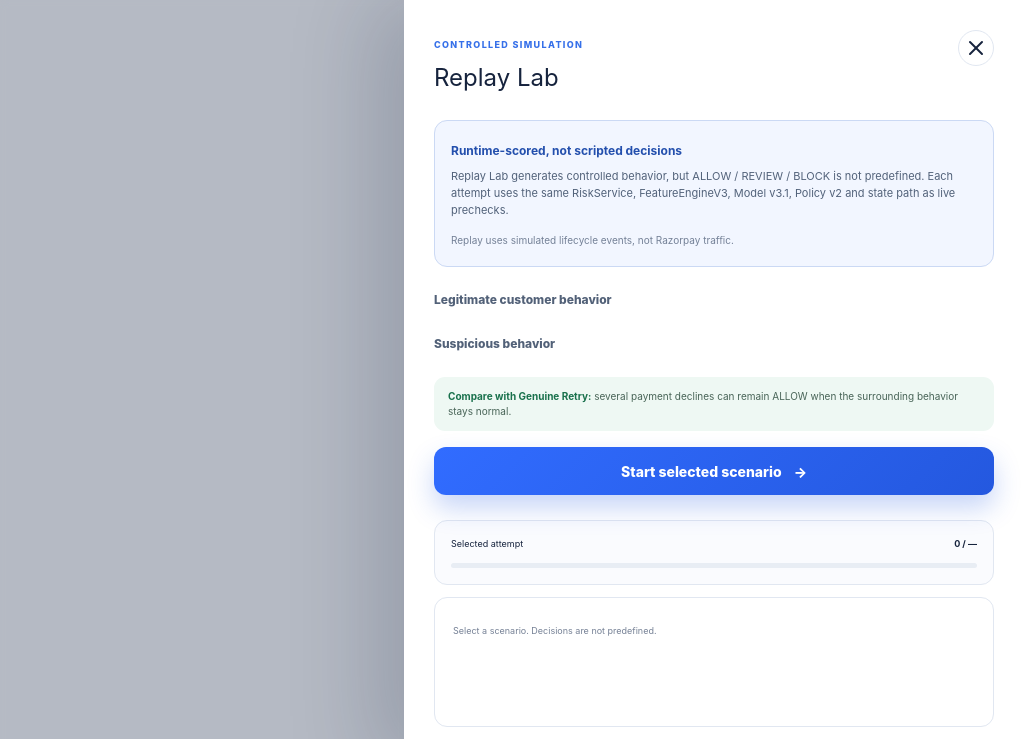
Test: ReplayDrawer › separates ALLOW from a later simulated outcome and renders BLOCK suppression
Click the button "Start selected scenario →". click: (714, 471)
box: [434,447,994,495]
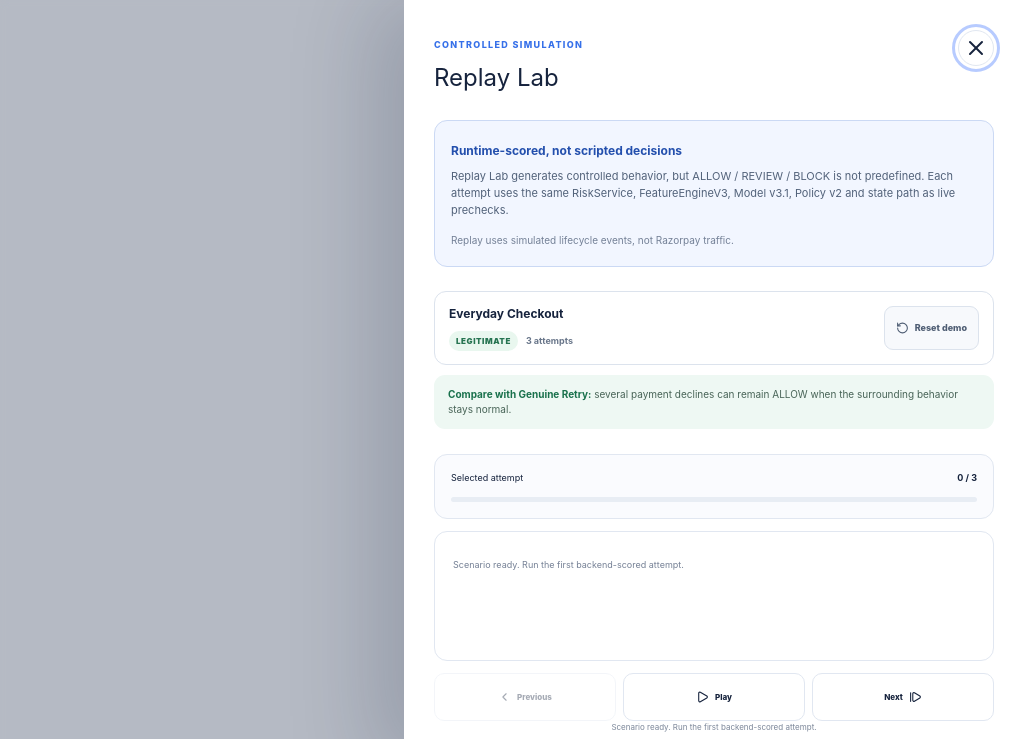
Result: the button "Next" is enabled
Click the button "Next". click: (903, 697)
box: [812,673,994,721]
(page scrolled)
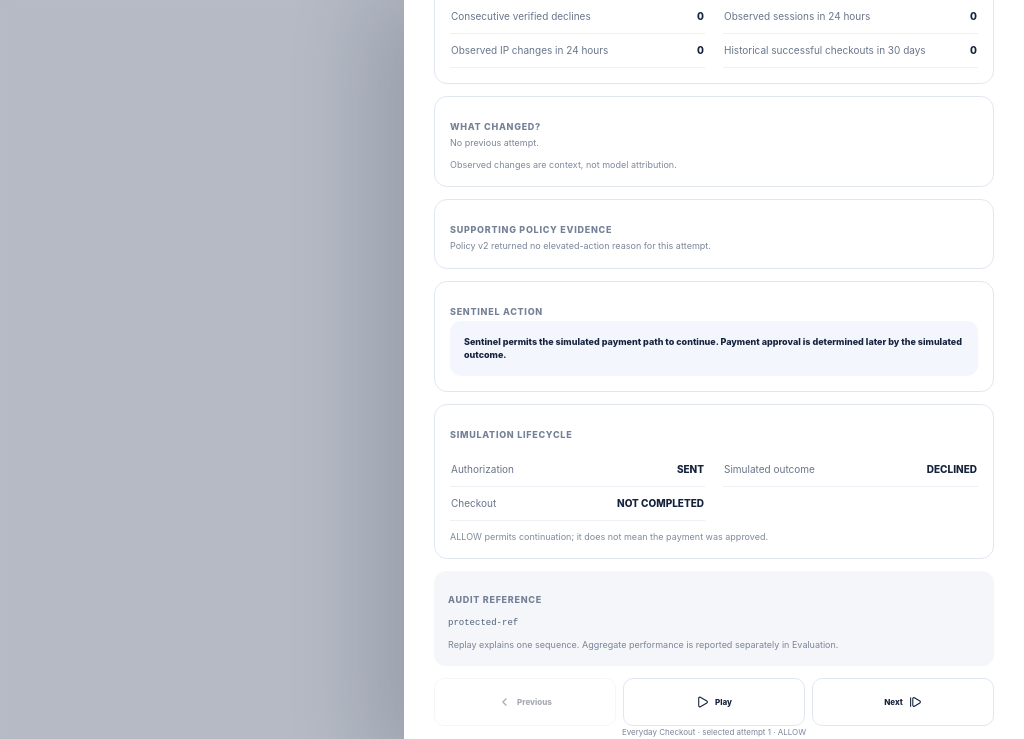
Result: the text "Payment approval is determined later by the simulated outcome" is shown at [464,336,962,360]
Result: the text "SENT" is shown at [677,462,704,477]
Result: the text "DECLINED" is shown at [927,462,977,477]
Click the button "Next". click: (903, 702)
box: [812,678,994,726]
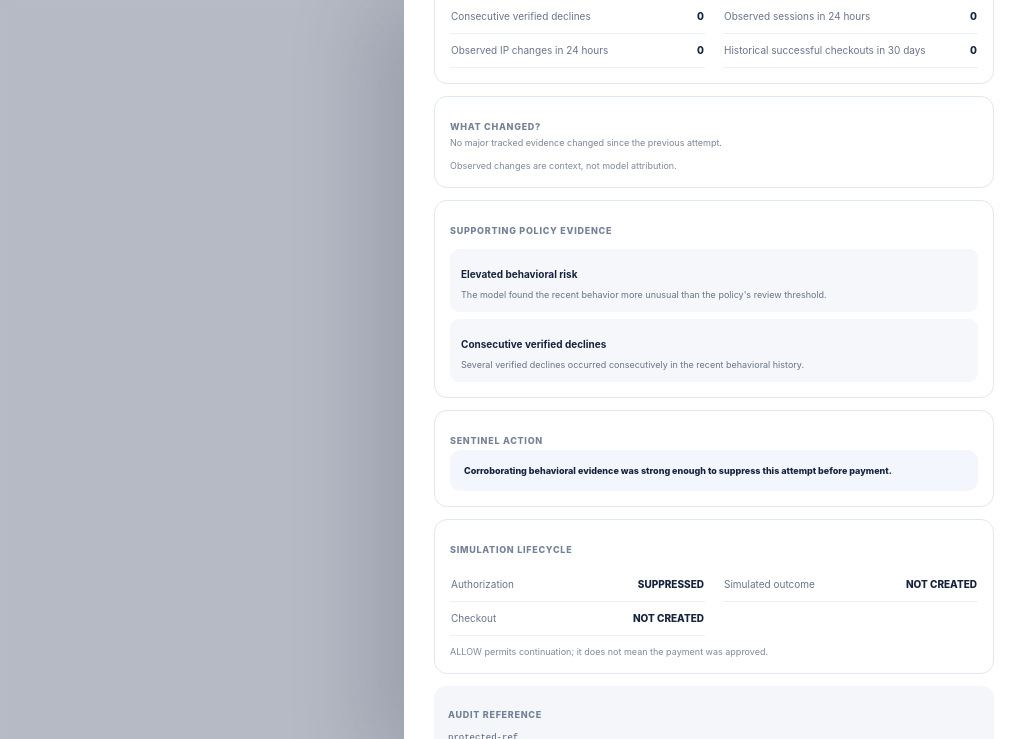
Result: the text "NOT CREATED" is shown 2 times at [906,577,977,592]; [633,611,704,626]
Result: the text "Corroborating behavioral evidence was strong enough" is shown at [464,465,892,476]
Result: the text "SUPPRESSED" is shown at [638,577,704,592]
